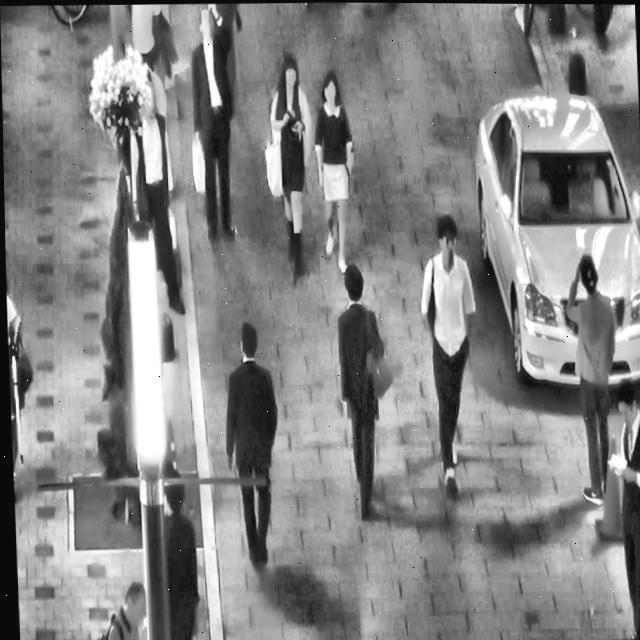light_vehicle: (464, 71, 640, 398)
